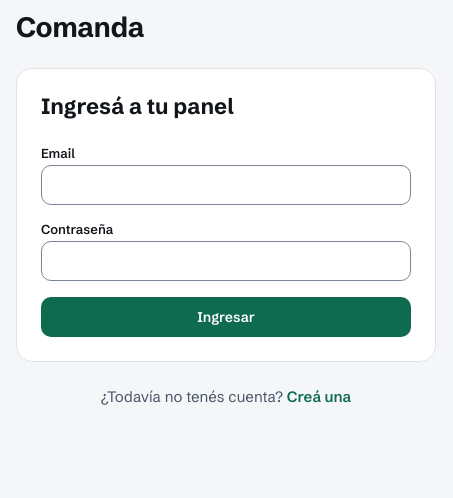
Test case: login › a wrong password shows one generic message (and no password rules)
This screenshot has width=453, height=498.
Type "persona@example.com" into the field labelled "Email" at (226, 185), box [41,165,411,205]
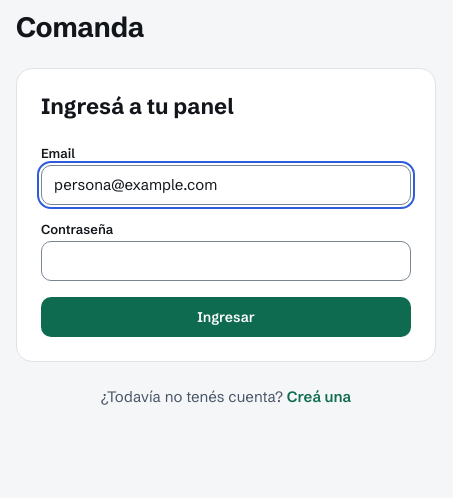
Type "123" into the password field labelled "Contraseña" at (226, 261), box [41,241,411,281]
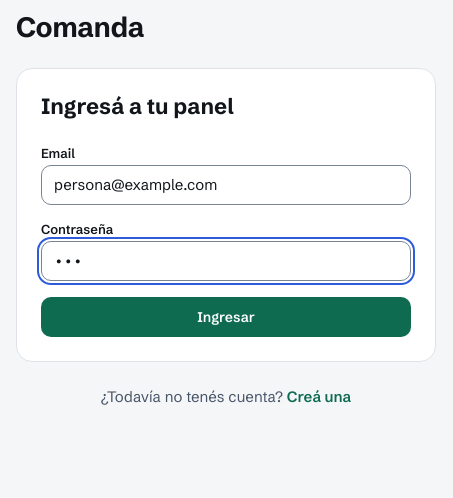
Click the button "Ingresar" at (226, 317), box [41,297,411,337]
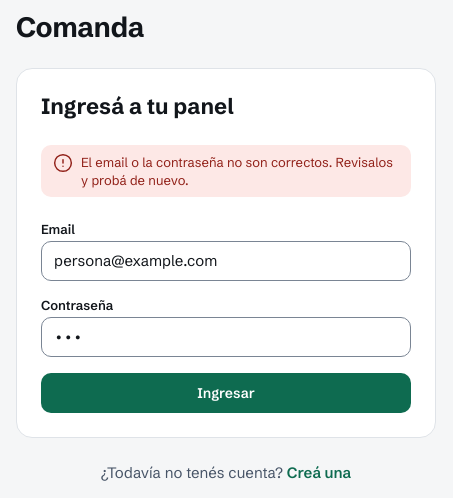
Now the text "El email o la contraseña no son correctos. Revisalos y probá de nuevo." is shown, box [81,153,399,189]
